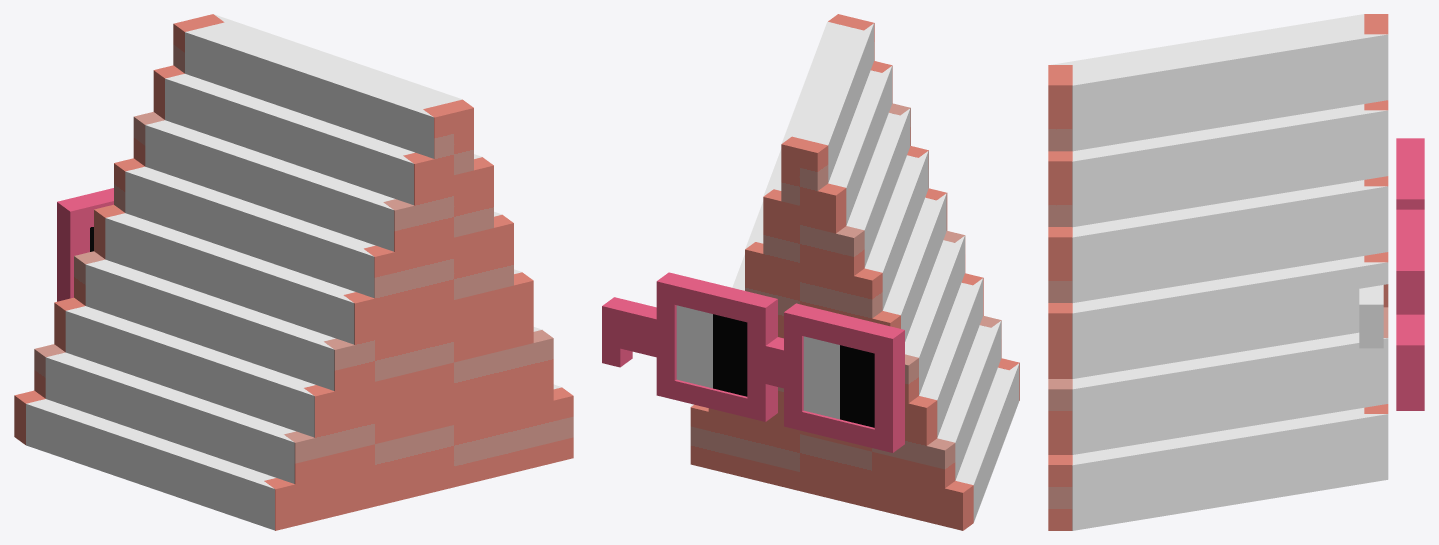
3 views of the same model, side by side, from view 1: azimuth 30°, elevation 25°; view 2: azimuth 150°, elevation 25°; view 3: azimuth 270°, elevation 25° (orthographic). The views are drawn at different scales.
Visible parts, largest first — view 1: back-Local, side-left-9-Local, side-left-2-Local, side-left-6-Local, side-left-3-Local, side-left-4-Local, side-left-5-Local, side-left-7-Local, side-left-1-Local, side-left-8-Local, back-top-Local, l1-Local (+5 smaller); view 2: l1-Local, layer-1-Local, layer-2-Local, l1-bottom-Local, side-left-9-Local, l1-top-Local, side-left-1-Local, side-left-7-Local, side-left-6-Local, side-left-2-Local, side-left-8-Local, side-left-3-Local (+4 smaller); view 3: side-right-5-Local, side-right-4-Local, side-right-1-Local, side-right-2-Local, side-right-3-Local, side-right-6-Local, back-Local, side-left-9-Local, layer-1-Local, layer-2-Local, back-top-Local, eyes-Local (+1 smaller).
Part boxes in pixels (box(x1,y1,x2,y2)): back-Local: box(275, 108, 573, 530); side-left-9-Local: box(185, 19, 457, 158); side-left-2-Local: box(45, 352, 295, 483); side-left-6-Local: box(125, 166, 375, 297); side-left-3-Local: box(65, 306, 315, 437); side-left-4-Local: box(85, 259, 335, 390); side-left-5-Local: box(105, 213, 354, 344); side-left-7-Local: box(145, 120, 395, 251); side-left-1-Local: box(26, 399, 275, 530); side-left-8-Local: box(165, 74, 414, 205); back-top-Local: box(264, 99, 573, 509); l1-Local: box(14, 24, 184, 444); l1-Local: box(690, 144, 973, 511); layer-1-Local: box(602, 273, 903, 452); layer-2-Local: box(607, 272, 904, 451); l1-bottom-Local: box(690, 450, 973, 530); side-left-9-Local: box(789, 23, 873, 182); l1-top-Local: box(690, 136, 973, 510); side-left-1-Local: box(955, 363, 1019, 522); side-left-7-Local: box(846, 108, 910, 267); side-left-6-Local: box(865, 151, 928, 310); side-left-2-Local: box(937, 321, 1001, 480); side-left-8-Local: box(828, 66, 892, 225); side-left-3-Local: box(919, 278, 982, 437); side-right-5-Local: box(1072, 104, 1388, 227); side-right-4-Local: box(1072, 180, 1388, 303); side-right-1-Local: box(1072, 408, 1388, 530); side-right-2-Local: box(1072, 332, 1388, 454); side-right-3-Local: box(1072, 256, 1388, 378); side-right-6-Local: box(1072, 29, 1388, 151); back-Local: box(1048, 85, 1072, 530); side-left-9-Local: box(1051, 14, 1372, 82); layer-1-Local: box(1400, 138, 1424, 410); layer-2-Local: box(1396, 138, 1420, 410); back-top-Local: box(1048, 65, 1072, 486); eyes-Local: box(1359, 285, 1383, 348).
Bounding box in the file's own units: 20.02 × 19.5 × 15.57.
Materials: 26 (25 with a texture image).
